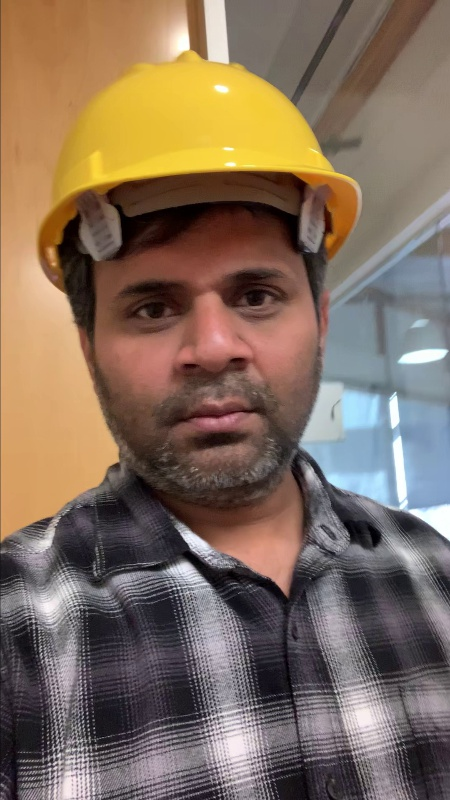helmet: (30, 52, 364, 262)
